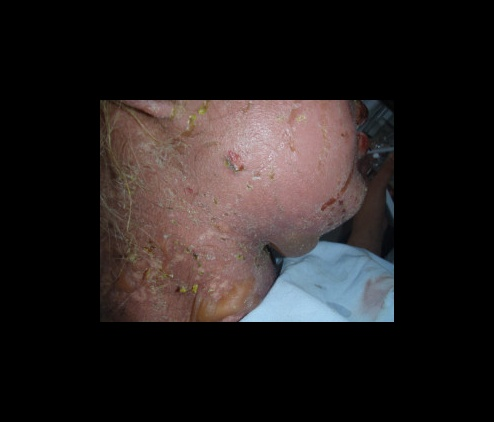SJS-TEN: (78, 195, 275, 366)
